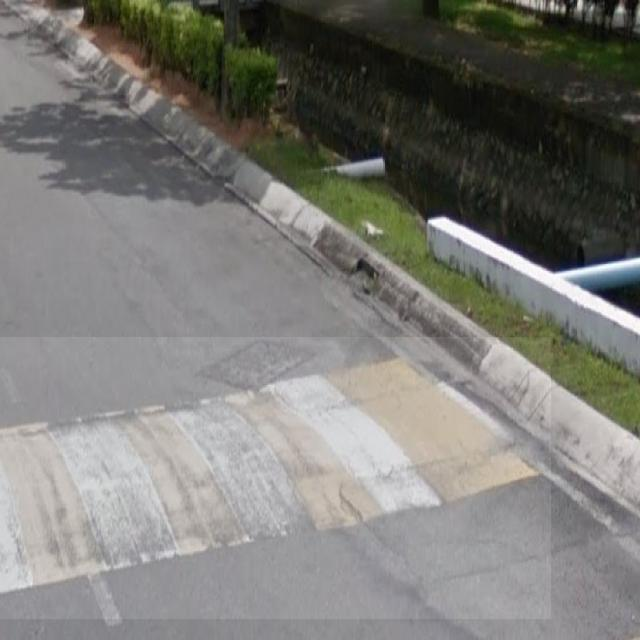speed-bump: (0, 338, 551, 620)
